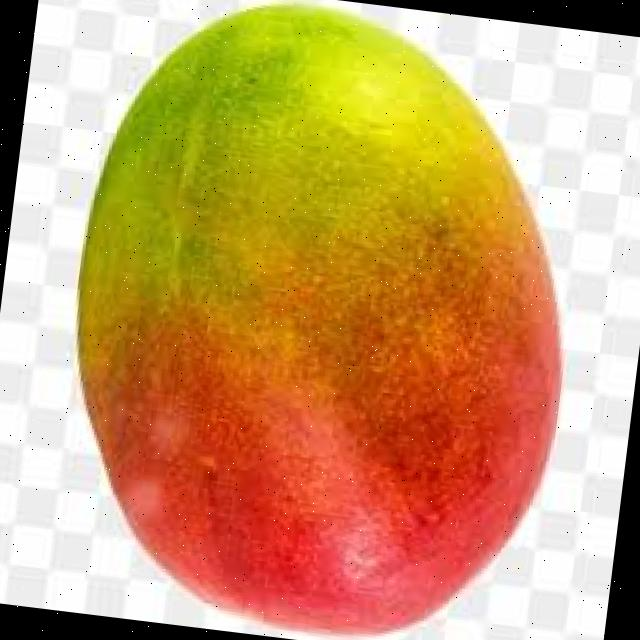mango: (72, 4, 561, 636)
